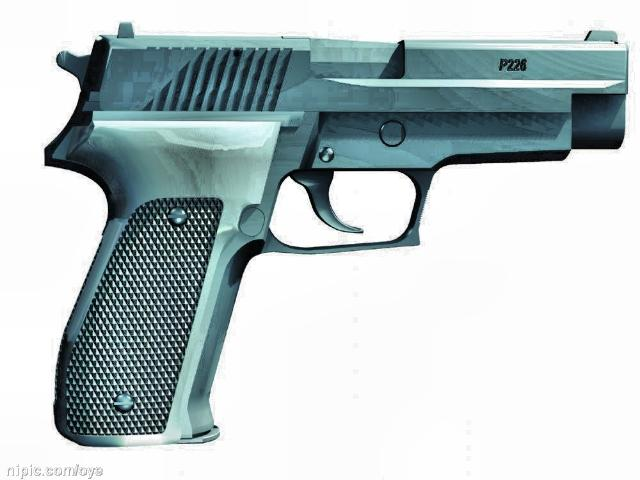pistol: (32, 18, 630, 448)
